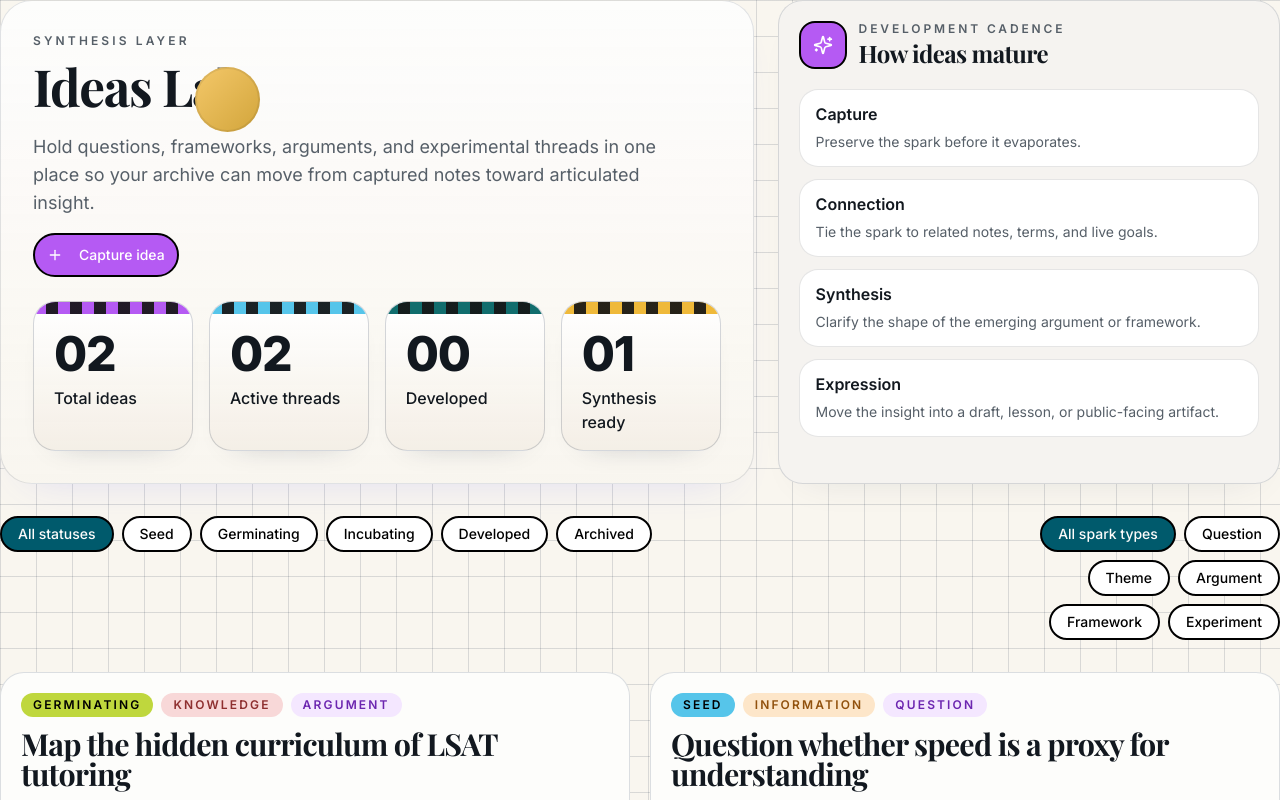
Test: Ideas page › renders the idea list and applies spark filters
Check: the heading "Map the hidden curriculum of LSAT tutoring" is shown, box [21, 723, 497, 794]
Check: the heading "Question whether speed is a proxy for understanding" is shown, box [671, 723, 1168, 794]
Click the button "Argument" at (1229, 578), box [1178, 560, 1279, 596]
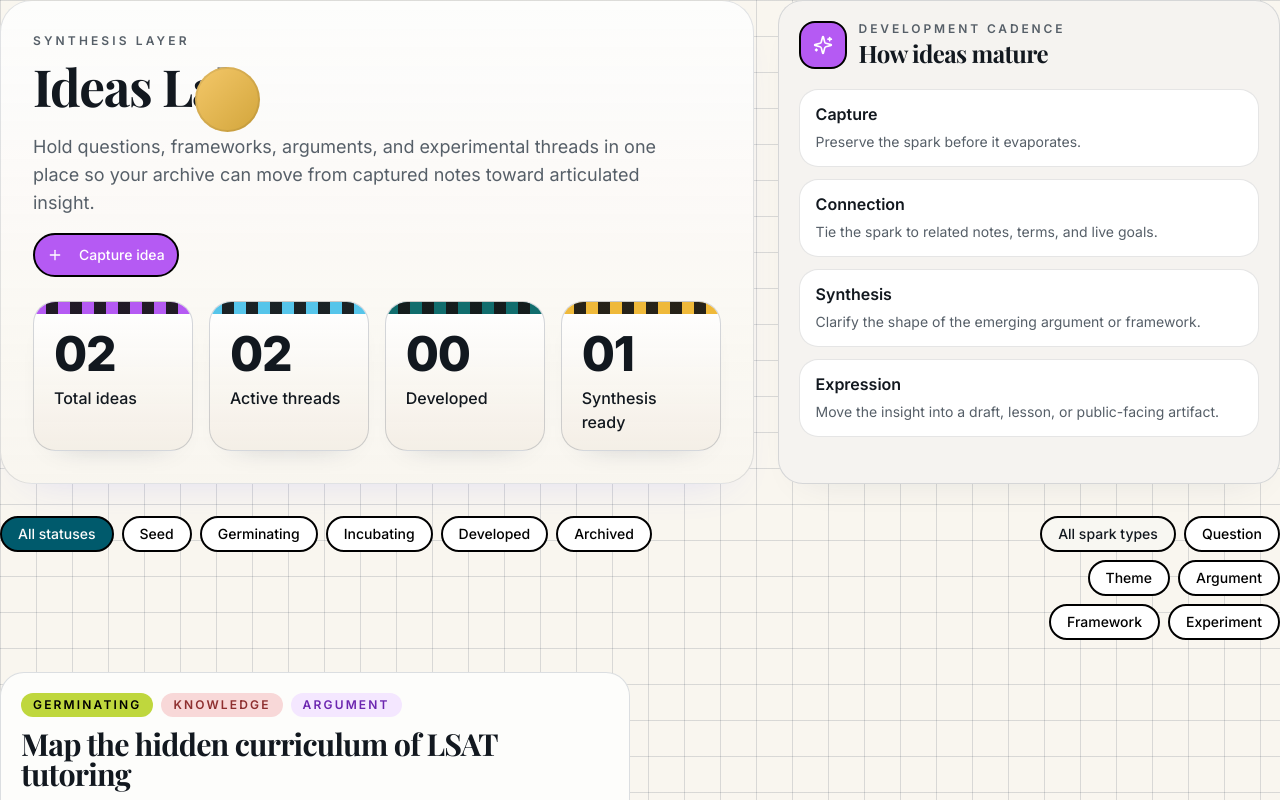
Check: the heading "Map the hidden curriculum of LSAT tutoring" is shown, box [21, 723, 497, 794]
Check: the heading "Question whether speed is a proxy for understanding" is gone
